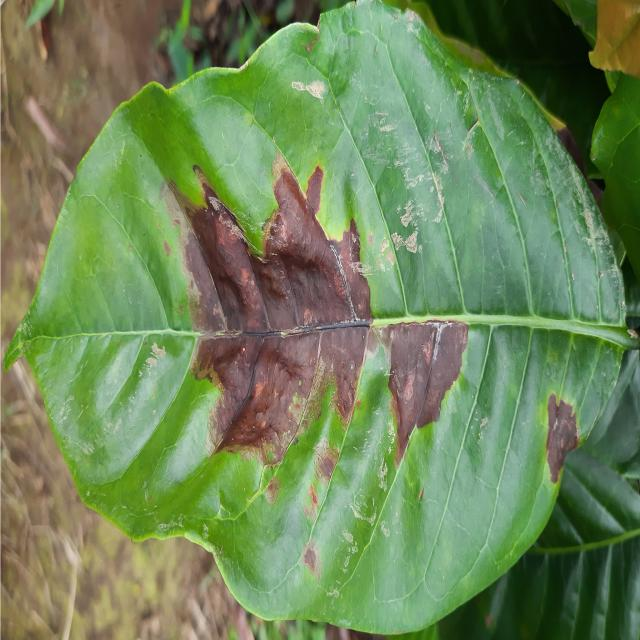Enfermedad-Mancha-de-hierro: (4, 0, 634, 638)
